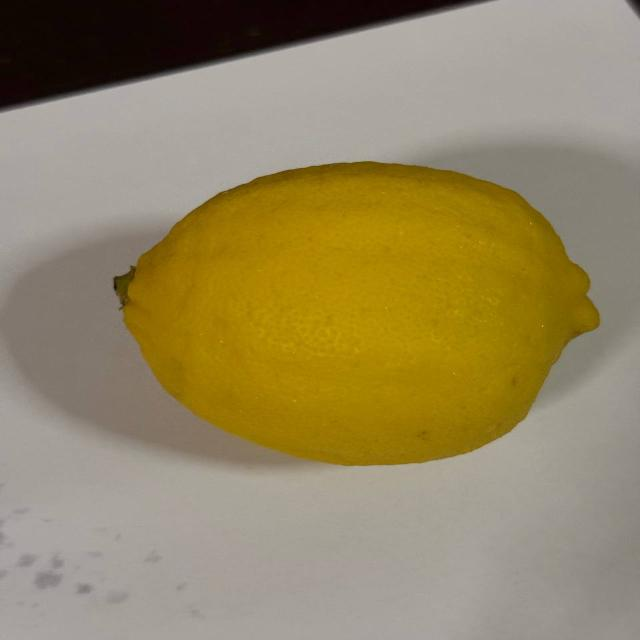lemon: (100, 152, 609, 472)
